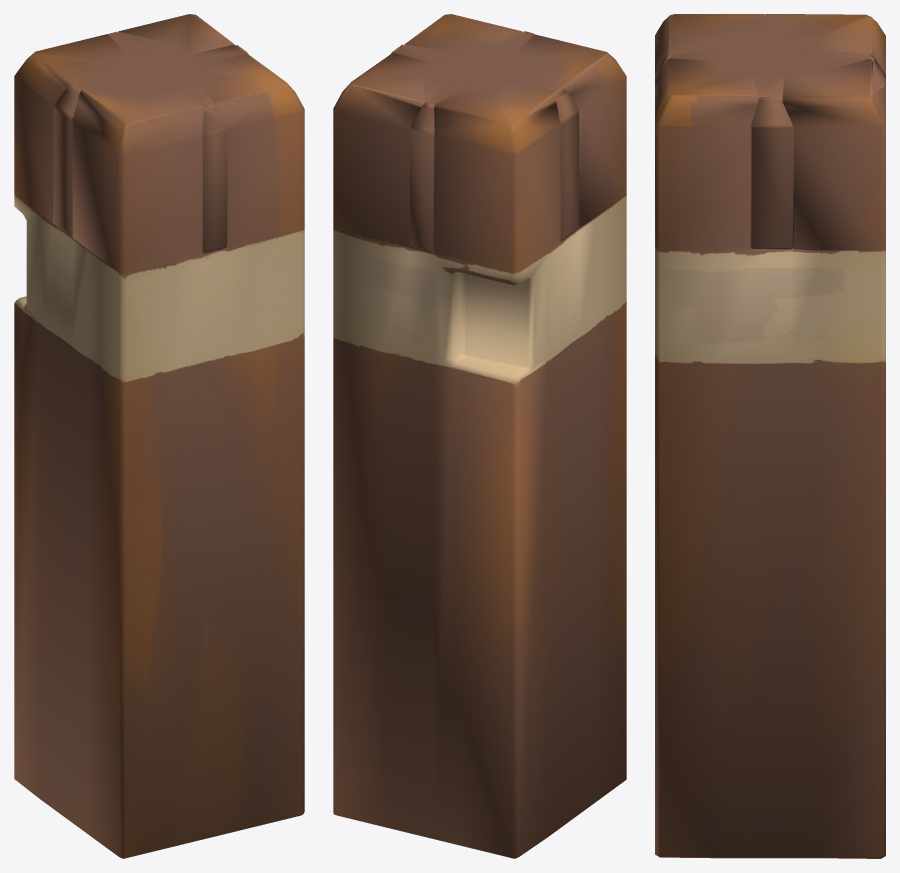
The model's file is road-bollard.glb.
3 views of the same model, side by side, from view 1: azimuth 30°, elevation 25°; view 2: azimuth 150°, elevation 25°; view 3: azimuth 270°, elevation 25° (orthographic). The views are drawn at different scales.
Parts seen in each view (by area): view 1: tripo_node_b362a8fd-8a62-4dbe-b30a-d24ffd361f03; view 2: tripo_node_b362a8fd-8a62-4dbe-b30a-d24ffd361f03; view 3: tripo_node_b362a8fd-8a62-4dbe-b30a-d24ffd361f03.
Part boxes in pixels (x1,y1,x2,y2): tripo_node_b362a8fd-8a62-4dbe-b30a-d24ffd361f03: (14,14,304,858); tripo_node_b362a8fd-8a62-4dbe-b30a-d24ffd361f03: (333,14,626,858); tripo_node_b362a8fd-8a62-4dbe-b30a-d24ffd361f03: (655,14,885,858).
Bounding box in the file's own units: 0.2279 × 0.85 × 0.2345.
Materials: 1 (1 with a texture image).
